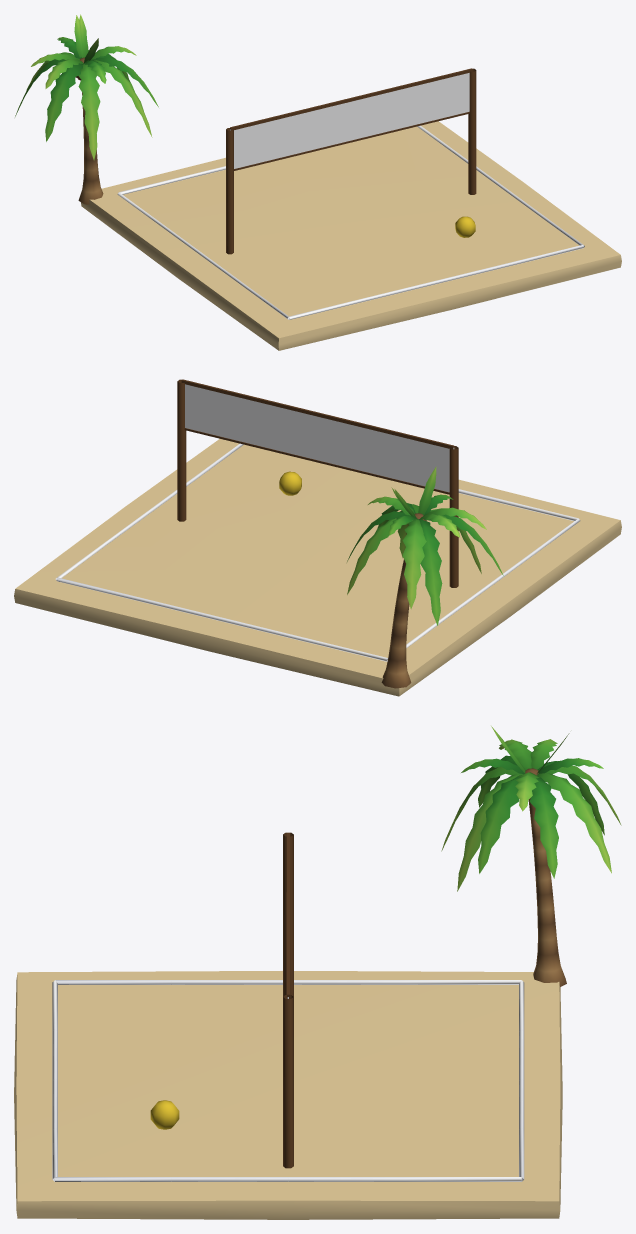
Rendered from BeachVolleyball.obj.
3 views of the same model, one above another, from view 1: azimuth 30°, elevation 25°; view 2: azimuth 150°, elevation 25°; view 3: azimuth 270°, elevation 25° (orthographic). The views are drawn at different scales.
Visible parts, largest first — view 1: BeachVolleyball; view 2: BeachVolleyball; view 3: BeachVolleyball.
Part boxes in pixels (x1,y1,x2,y2): BeachVolleyball: (15, 14, 621, 350); BeachVolleyball: (14, 379, 621, 696); BeachVolleyball: (14, 726, 621, 1219).
Bounding box in the file's own units: 4.72 × 2.11 × 4.43.
1 material, 1 textured.
